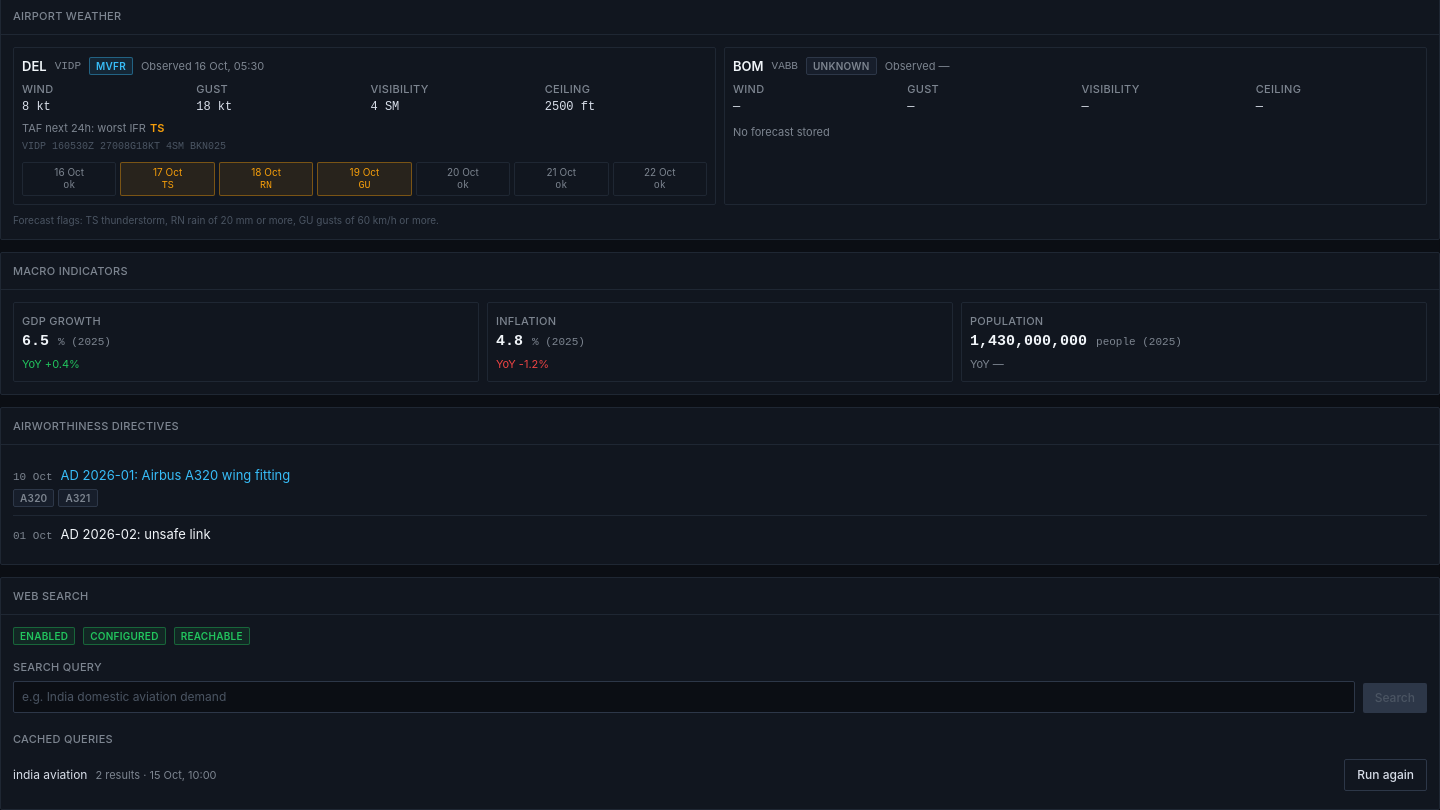
Test: DataPage › lists cached queries and reruns one
(page scrolled)
expect the element with test id "web-search-cache" shows "india aviation": met, box [13,767,87,782]
expect the element with test id "web-search-cache" shows "2 results": met, box [13,729,1427,797]
Click the button with aria-label "Run again: india aviation" at (1386, 775), box [1344,759,1427,791]
(page scrolled)
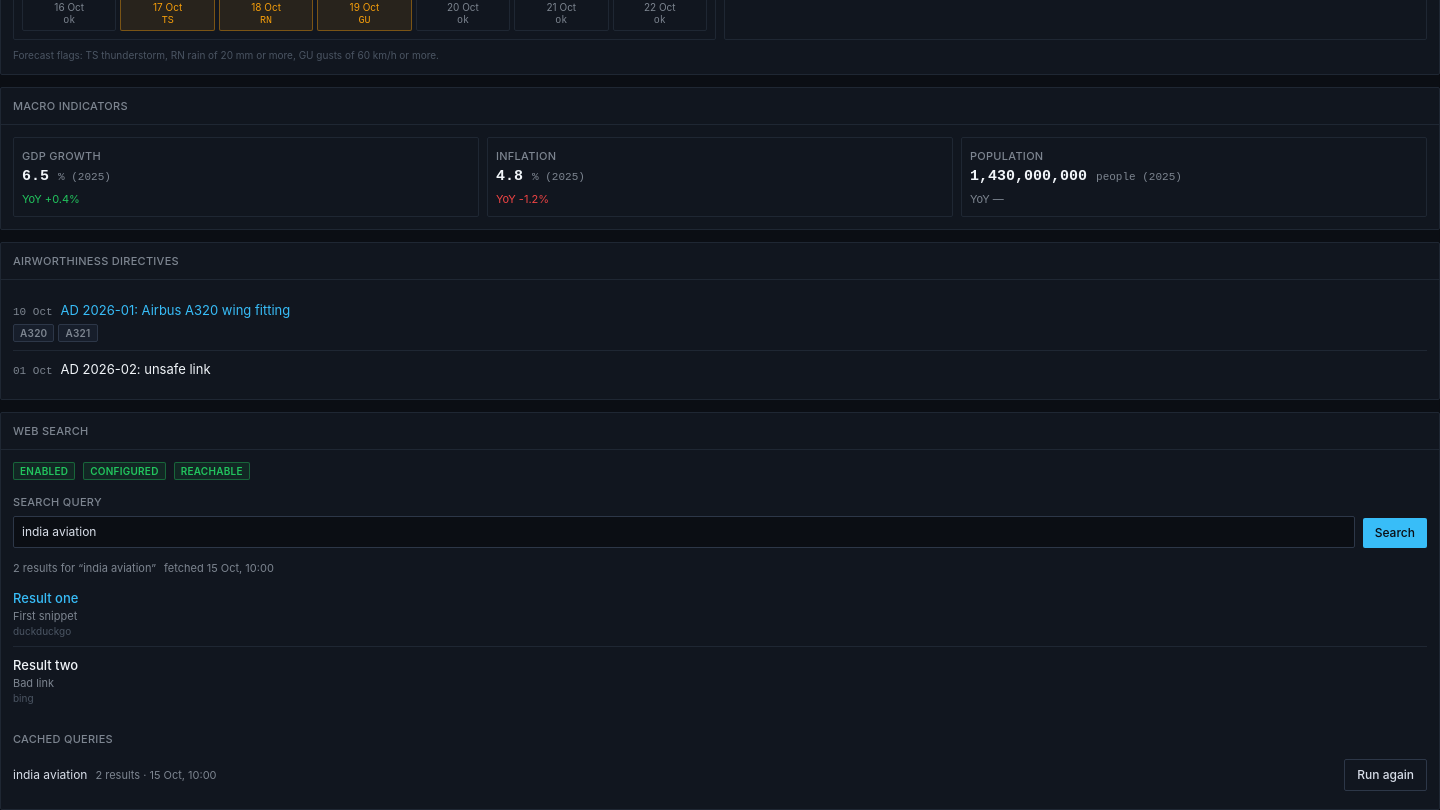
expect the element with test id "web-search-results" is shown: met, box [13,560,1427,713]
